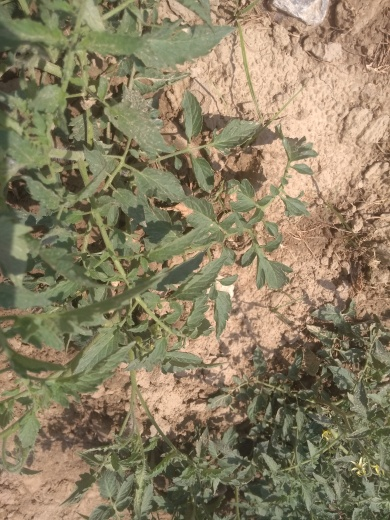tomato diseased leaf: (166, 195, 225, 241)
tomato flower: (221, 316, 388, 498), (337, 449, 376, 478)
tomato plant: (1, 19, 211, 396)
